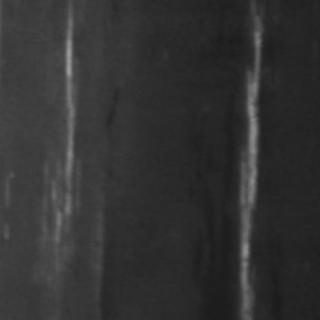scratches: (227, 15, 267, 315), (43, 25, 81, 244)
